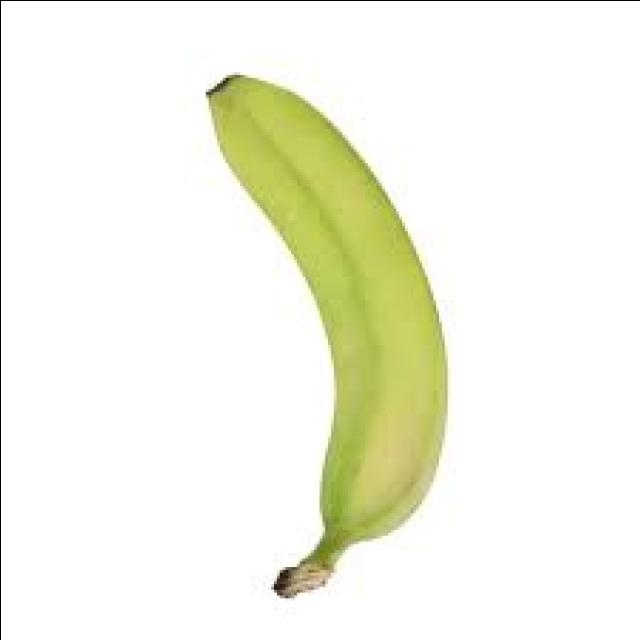agrume: (206, 70, 447, 602)
